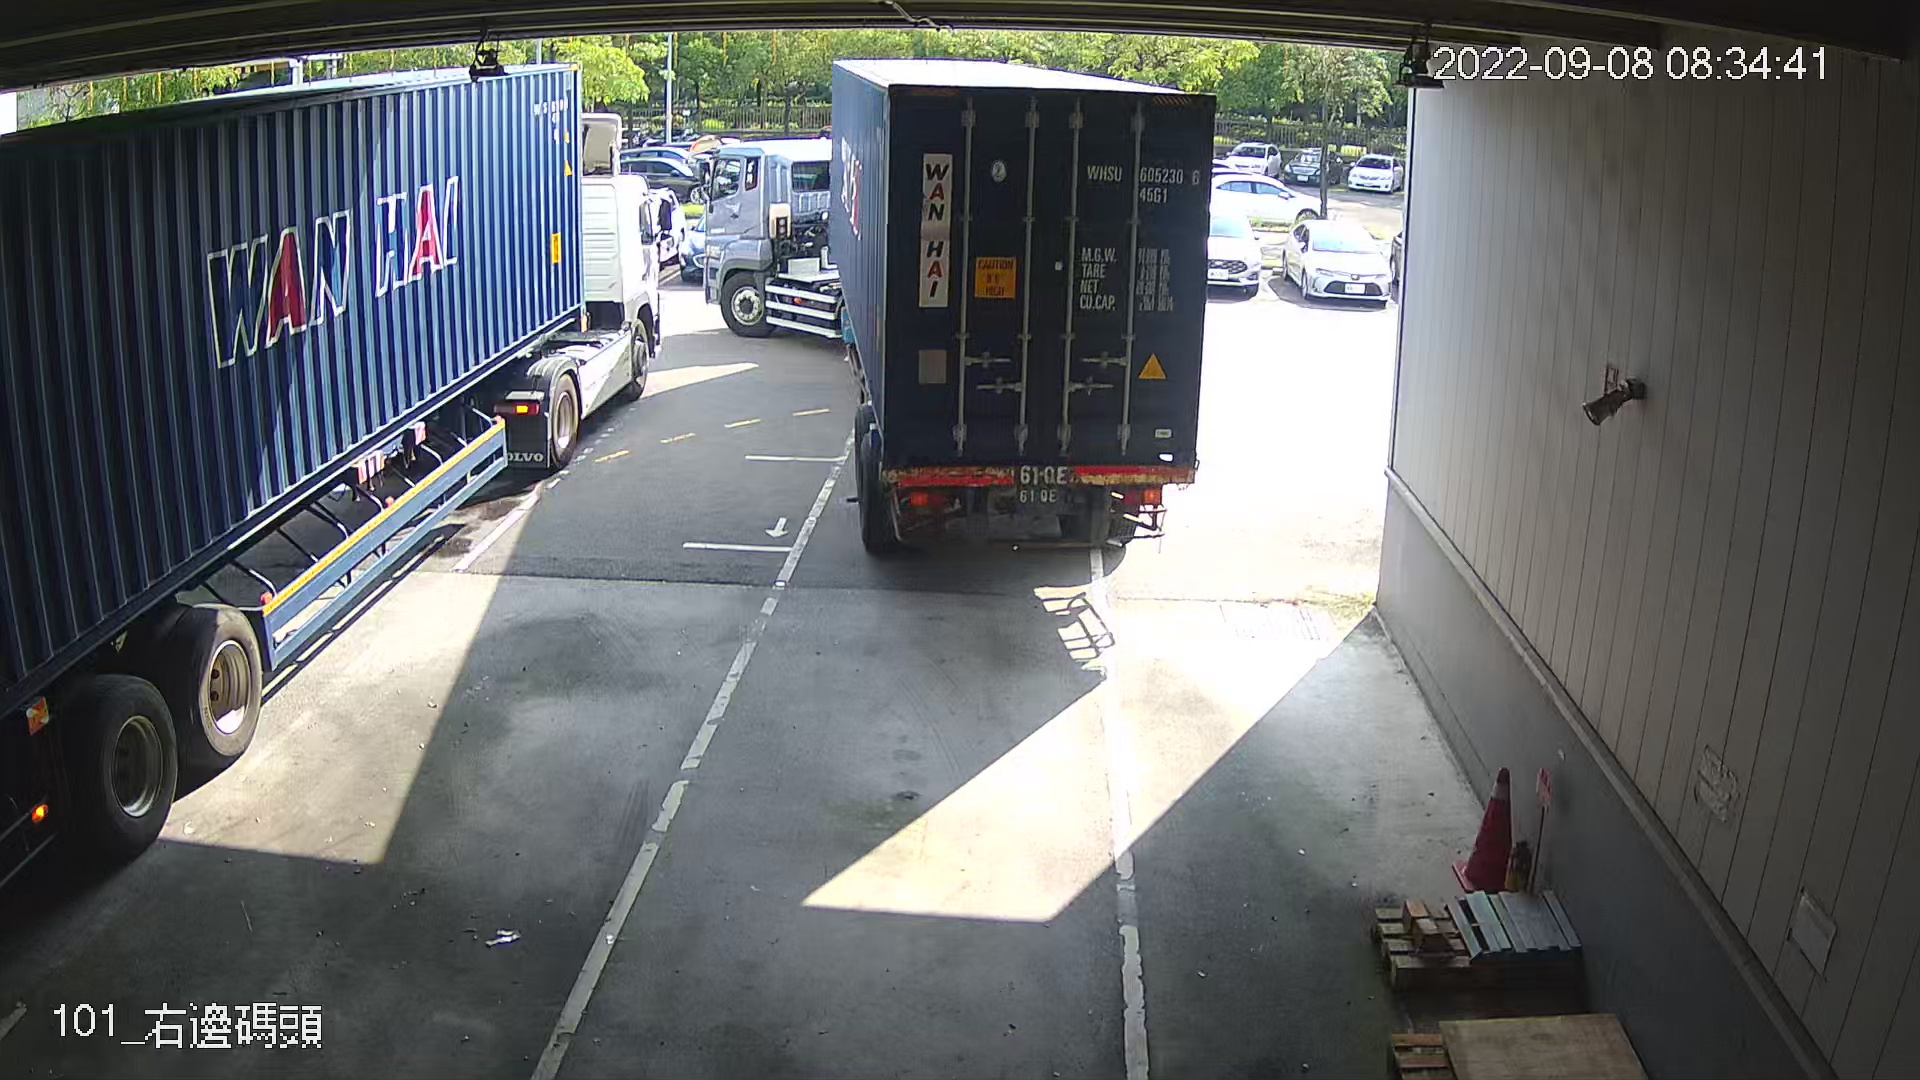container: (1077, 152, 1207, 211)
